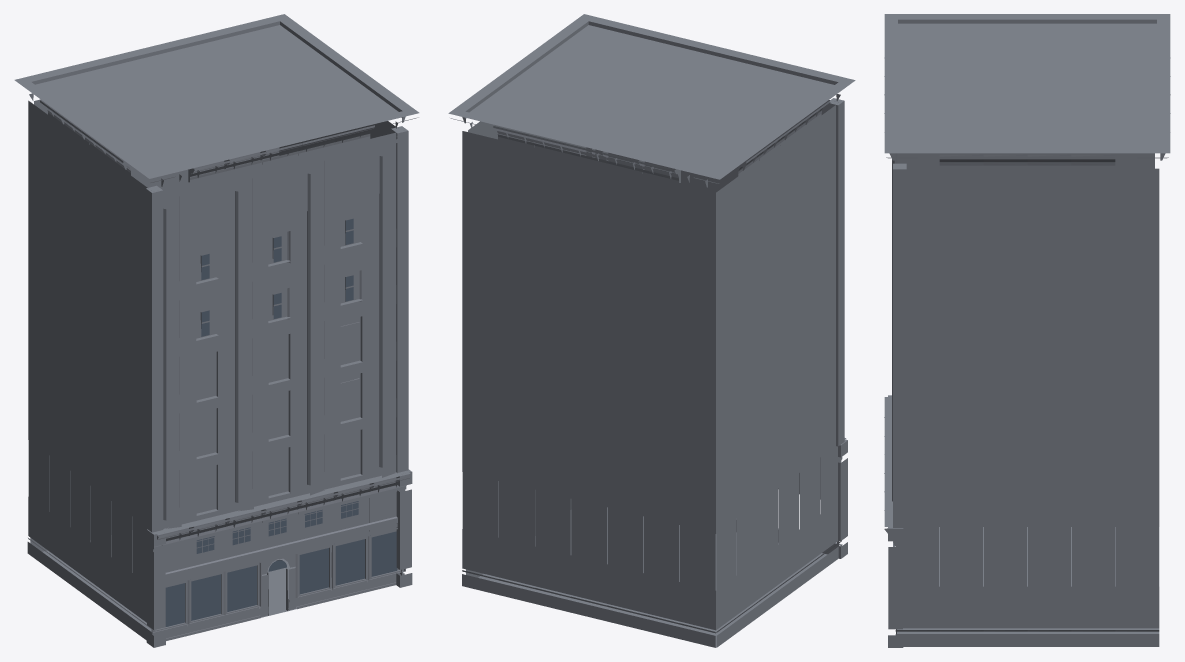
File: env_building_medium_2_001.glb
3 views of the same model, side by side, from view 1: azimuth 30°, elevation 25°; view 2: azimuth 150°, elevation 25°; view 3: azimuth 270°, elevation 25° (orthographic). The views are drawn at different scales.
Parts seen in each view (by area): view 1: part_0, part_1; view 2: part_0; view 3: part_0.
Boxes of the visible parts, x1,y1,x2,y2 form: part_0: [14, 14, 419, 647]; part_1: [165, 218, 397, 626]; part_0: [448, 14, 855, 647]; part_0: [884, 14, 1170, 647].
Size of the model in its own units: 15.05 by 25.01 by 13.05.
